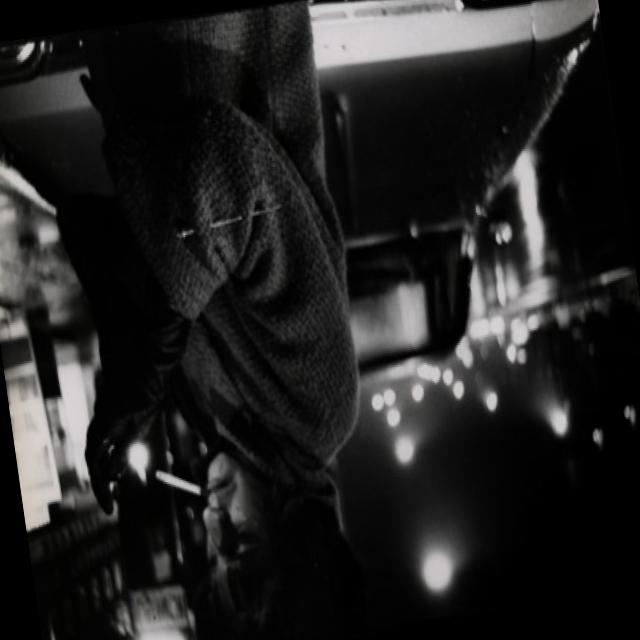smoke: (154, 464, 202, 502)
